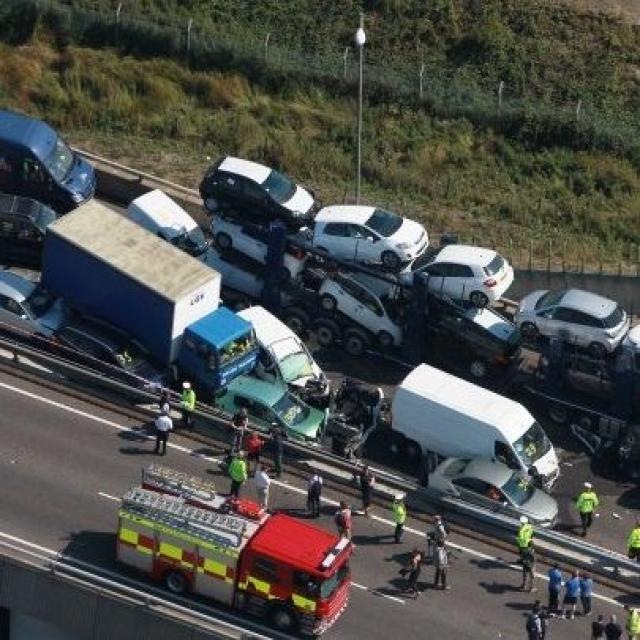traffic_incident: (21, 179, 582, 517)
